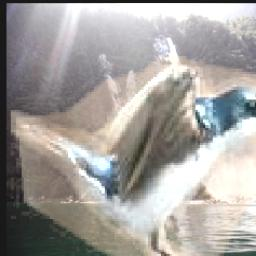Swallow: (12, 57, 256, 256)
